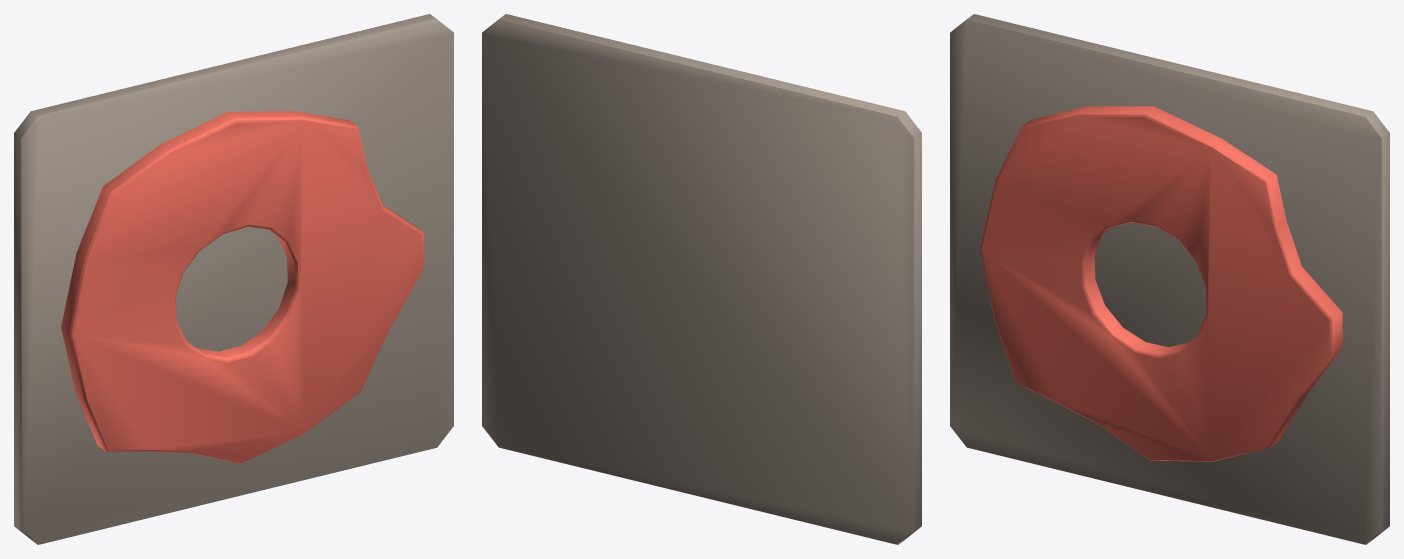
File: orbit-bloom-clay-mesh.obj
3 renders of one model, left to right at view 1: azimuth 30°, elevation 25°; view 2: azimuth 150°, elevation 25°; view 3: azimuth 330°, elevation 25°, orthographic.
Parts seen in each view (by area): view 1: relief_backing, logo_1; view 2: relief_backing; view 3: relief_backing, logo_1.
Part boxes in pixels (bbox=[...]): relief_backing: bbox=[14, 14, 453, 544]; logo_1: bbox=[61, 111, 423, 463]; relief_backing: bbox=[482, 14, 921, 544]; relief_backing: bbox=[950, 14, 1389, 544]; logo_1: bbox=[980, 106, 1342, 461].
Size of the model in its own units: 1.64 by 1.56 by 0.1243.
